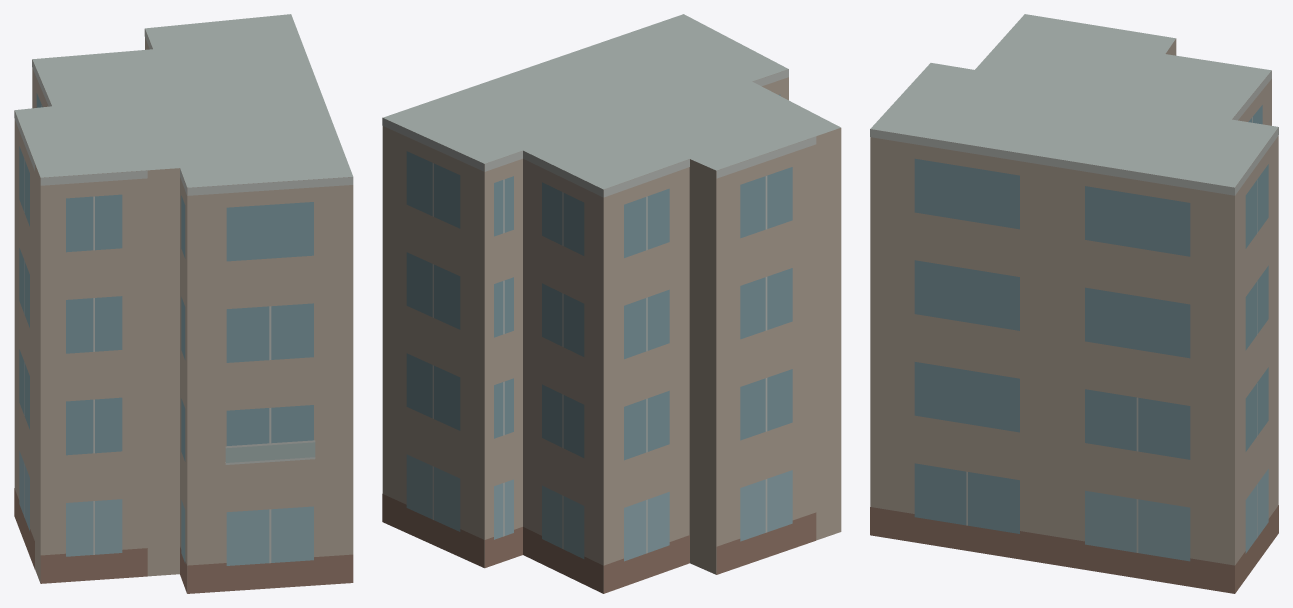
The model's file is survey-upis-32783517.glb.
3 renders of one model, left to right at view 1: azimuth 30°, elevation 25°; view 2: azimuth 150°, elevation 25°; view 3: azimuth 270°, elevation 25°, orthographic.
Parts seen in each view (by area): view 1: survey-upis-32783517.tmp; view 2: survey-upis-32783517.tmp; view 3: survey-upis-32783517.tmp.
Part boxes in pixels (x1,y1,x2,y2): survey-upis-32783517.tmp: (14,14,353,593); survey-upis-32783517.tmp: (382,14,841,593); survey-upis-32783517.tmp: (870,14,1278,593).
Size of the model in its own units: 11.19 by 12.2 by 11.13.
